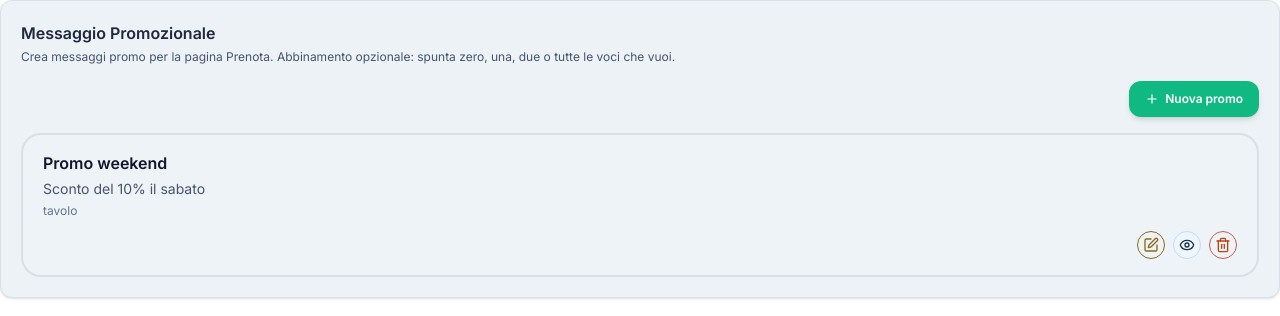
Test: settings-promo: apply/toggle/delete sono locali, niente persistenza autonoma › toggle visibilità: aggiorna solo lo stato locale e alza dirty, nessuna mutation
The width and height of the screenshot is (1280, 316).
Expected: the text "Promo weekend" is shown, [43, 153, 167, 173]
Click the button named "nascondi nella pagina prenota" at [1187, 245], box [1173, 231, 1201, 259]
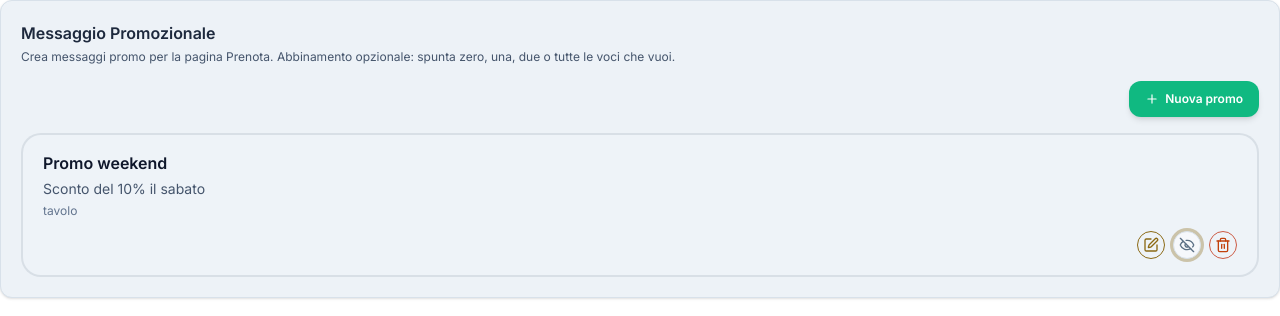
Expected: the button named "mostra nella pagina prenota" is shown, [1173, 231, 1201, 259]
